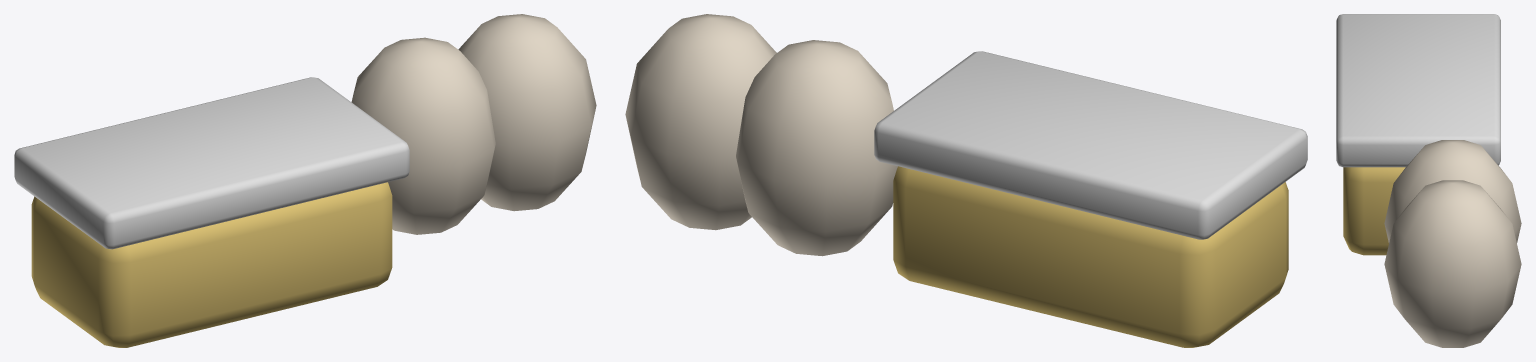
The model's file is ing_dairy.glb.
3 renders of one model, left to right at view 1: azimuth 30°, elevation 25°; view 2: azimuth 150°, elevation 25°; view 3: azimuth 270°, elevation 25°, orthographic. The views are drawn at different scales.
Parts seen in each view (by area): view 1: ing_dairy; view 2: ing_dairy; view 3: ing_dairy.
Boxes of the visible parts, <box> form: ing_dairy: <box>14,14,596,347</box>; ing_dairy: <box>625,14,1307,347</box>; ing_dairy: <box>1336,14,1521,347</box>.
Size of the model in its own units: 0.7851 by 0.26 by 0.27.
